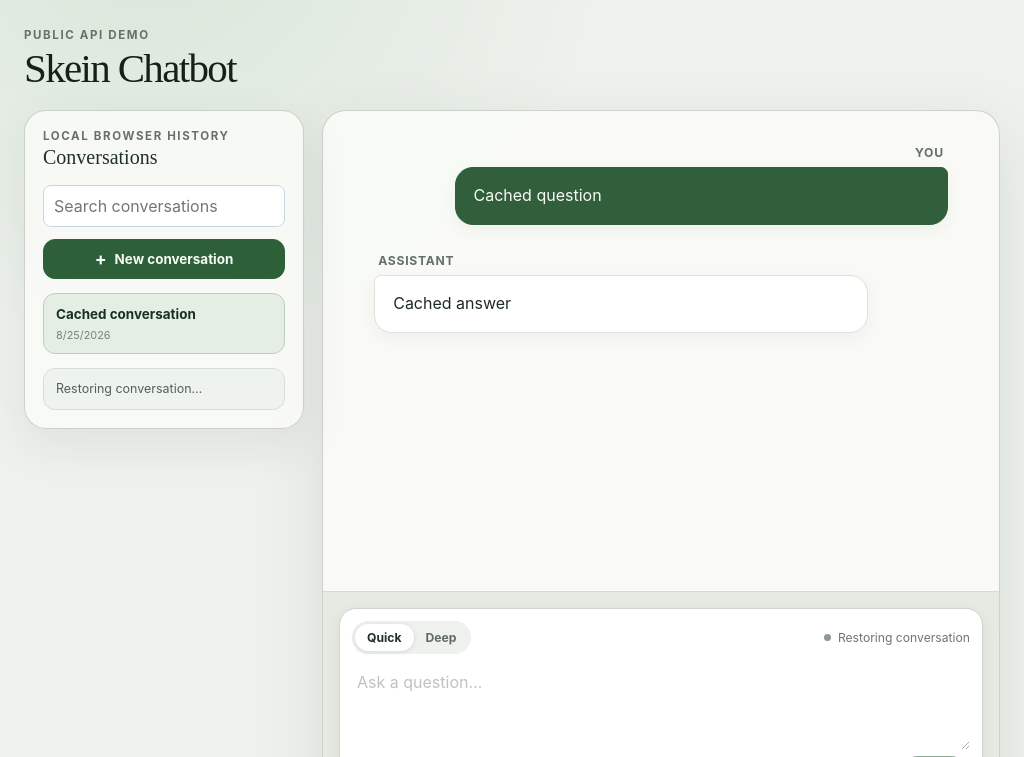
Test: App conversation persistence › allows leaving a pending recovery and ignores its late response
The width and height of the screenshot is (1024, 757).
Click the button "+ New conversation" at x=164, y=259, box [43, 239, 285, 279]
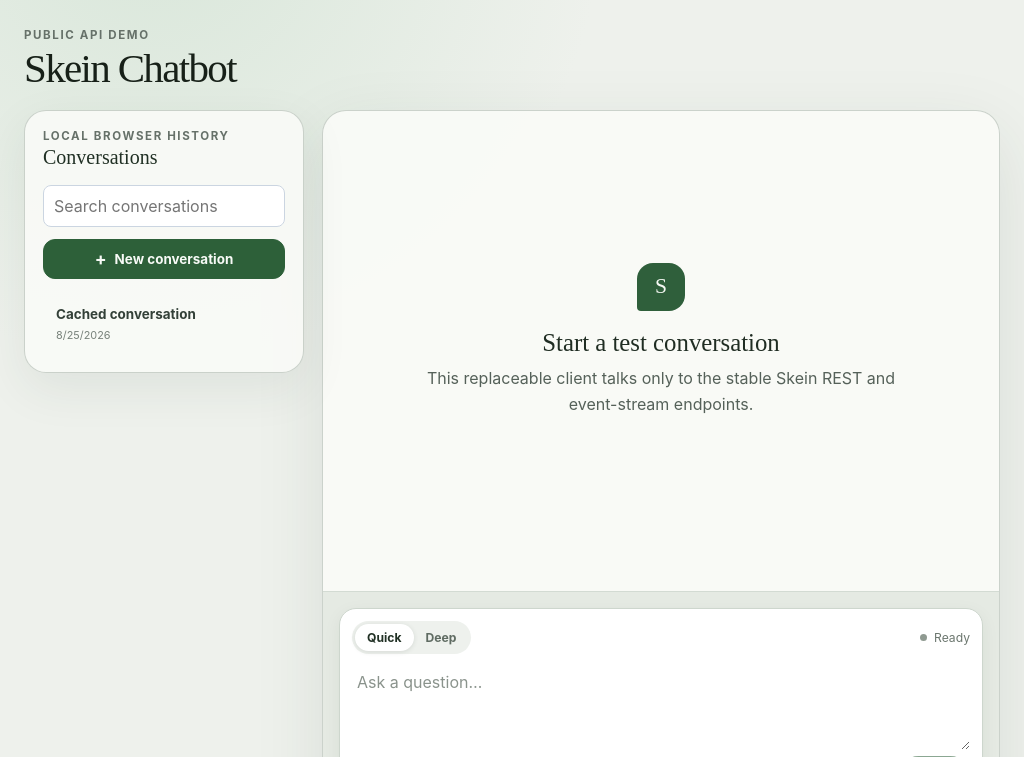
Expected: the heading "Start a test conversation" is shown, [542, 329, 780, 357]
